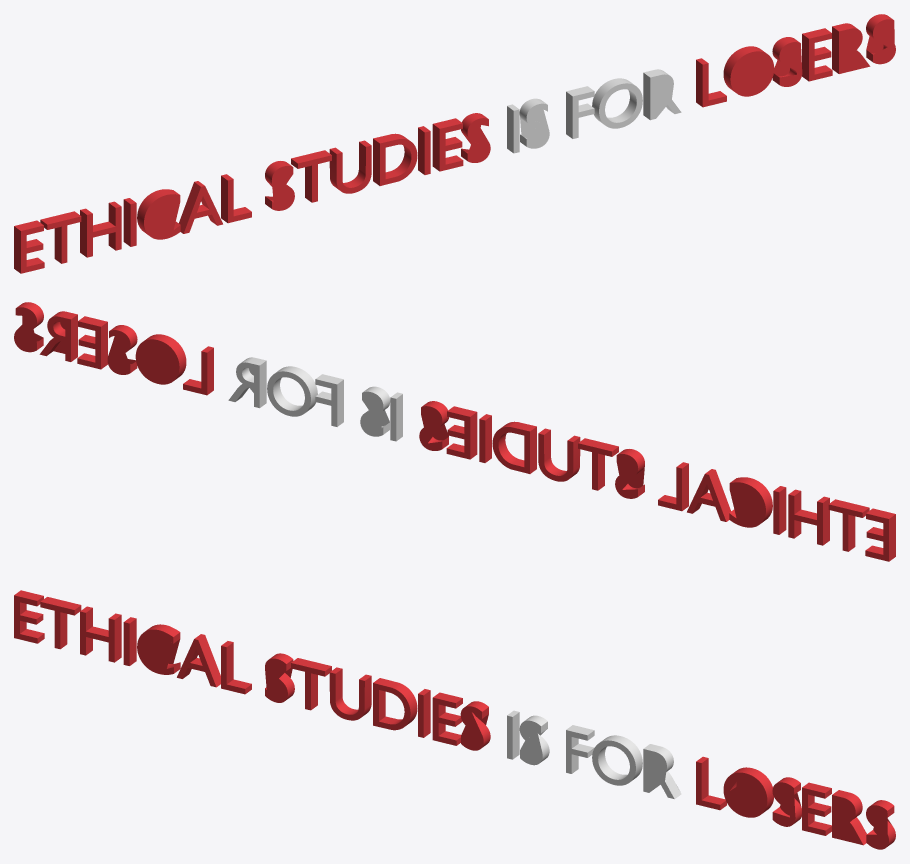
Rendered from EthicalStudiesIsForLosers.fbx.
3 renders of one model, top to bottom at view 1: azimuth 30°, elevation 25°; view 2: azimuth 150°, elevation 25°; view 3: azimuth 330°, elevation 25°, orthographic.
Visible parts, largest first — view 1: Ethical Studies, Is For; view 2: Ethical Studies, Is For; view 3: Ethical Studies, Is For.
Part boxes in pixels (x1,y1,x2,y2): Ethical Studies: (14,14,895,273); Is For: (507,69,681,153); Ethical Studies: (14,302,895,561); Is For: (228,357,402,441); Ethical Studies: (14,590,895,849); Is For: (507,710,681,799).
Bounding box in the file's own units: 1462 × 70 × 20.
